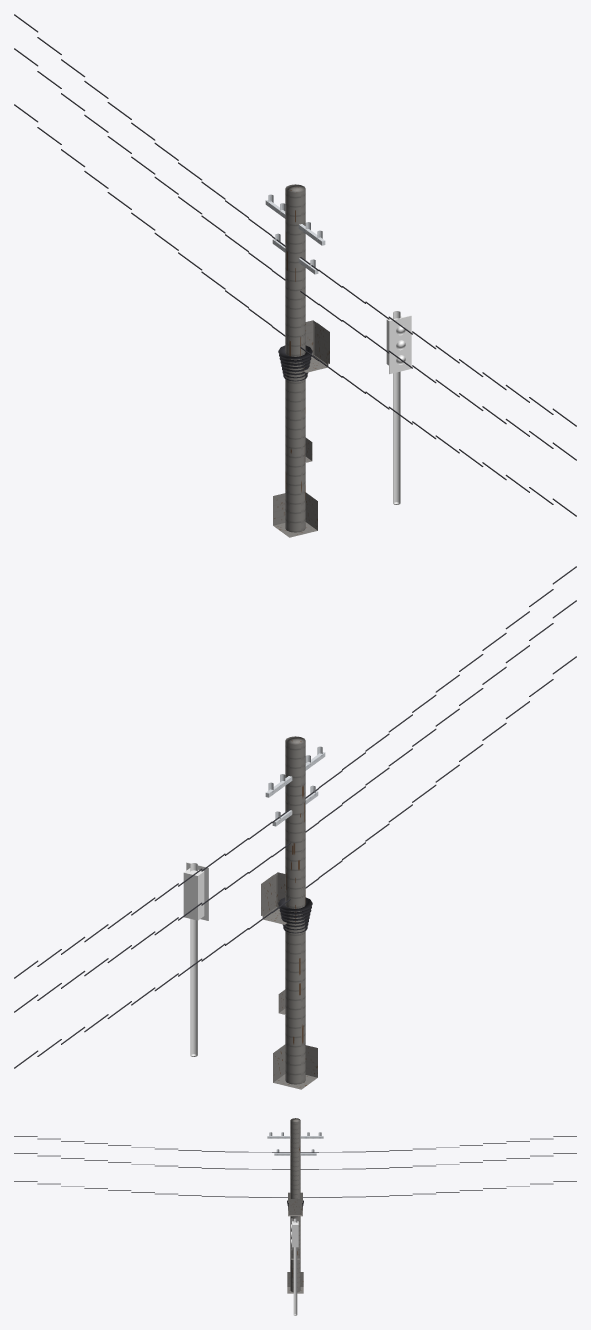
Rendered from mumbai_street_props.glb.
The picture shows the model from 3 angles, top to bottom: view 1: azimuth 30°, elevation 25°; view 2: azimuth 150°, elevation 25°; view 3: azimuth 270°, elevation 25°; orthographic projection. The views are drawn at different scales.
Parts seen in each view (by area): view 1: Utility_Pole_Structure, Tangled_Overhead_Cables, Traffic_Signal_System, Utility_Pole_Hardware; view 2: Utility_Pole_Structure, Tangled_Overhead_Cables, Traffic_Signal_System, Utility_Pole_Hardware; view 3: Tangled_Overhead_Cables, Utility_Pole_Structure, Traffic_Signal_System, Utility_Pole_Hardware.
Boxes of the visible parts, <box> form: Utility_Pole_Structure: <box>273,184,329,537</box>; Tangled_Overhead_Cables: <box>14,14,576,516</box>; Traffic_Signal_System: <box>386,311,411,504</box>; Utility_Pole_Hardware: <box>265,194,325,274</box>; Utility_Pole_Structure: <box>261,736,317,1089</box>; Tangled_Overhead_Cables: <box>14,566,576,1068</box>; Traffic_Signal_System: <box>183,862,208,1056</box>; Utility_Pole_Hardware: <box>265,746,325,826</box>; Tangled_Overhead_Cables: <box>14,1136,576,1216</box>; Utility_Pole_Structure: <box>287,1118,303,1293</box>; Traffic_Signal_System: <box>291,1218,298,1315</box>; Utility_Pole_Hardware: <box>267,1132,323,1155</box>.
Bounding box in the file's own units: 3.14 × 8 × 24.01.
Materials: 4 (2 with a texture image).
